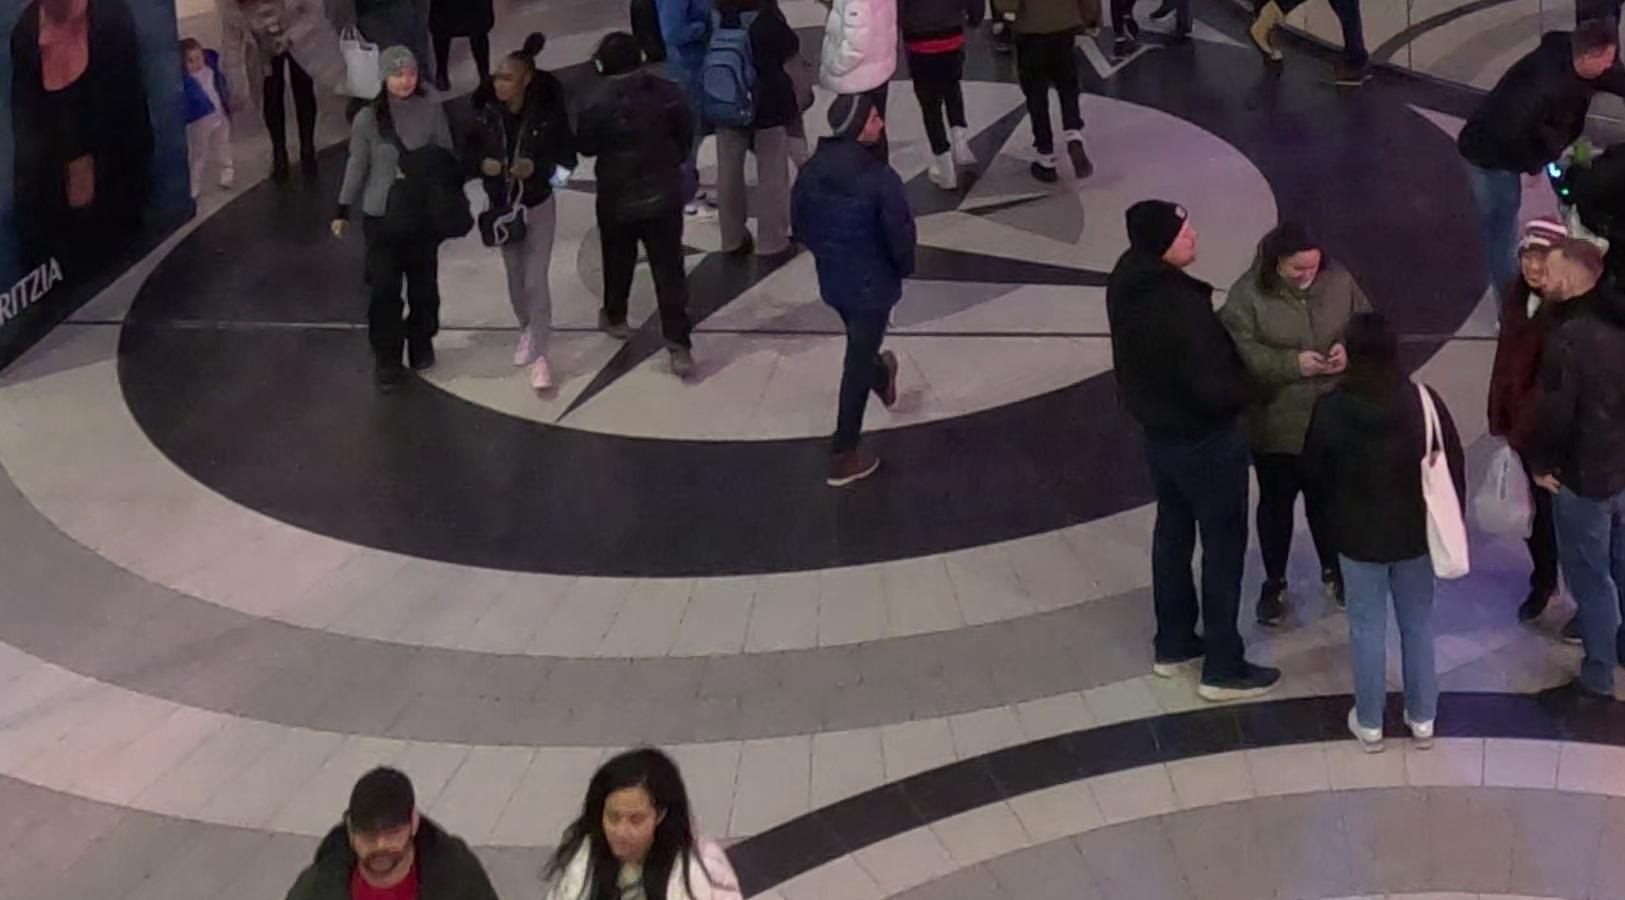person: (1100, 195, 1275, 701), (1288, 302, 1468, 754), (1491, 226, 1625, 714), (1219, 221, 1378, 624), (787, 81, 923, 504), (579, 17, 715, 387), (331, 39, 466, 390), (469, 34, 579, 406), (541, 747, 756, 895), (876, 2, 1009, 207), (316, 753, 499, 900), (984, 1, 1111, 194)
